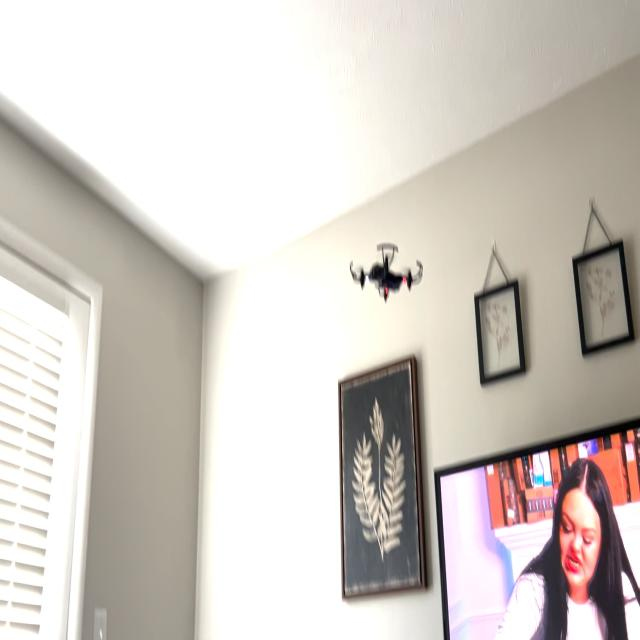drone: (340, 221, 432, 320)
